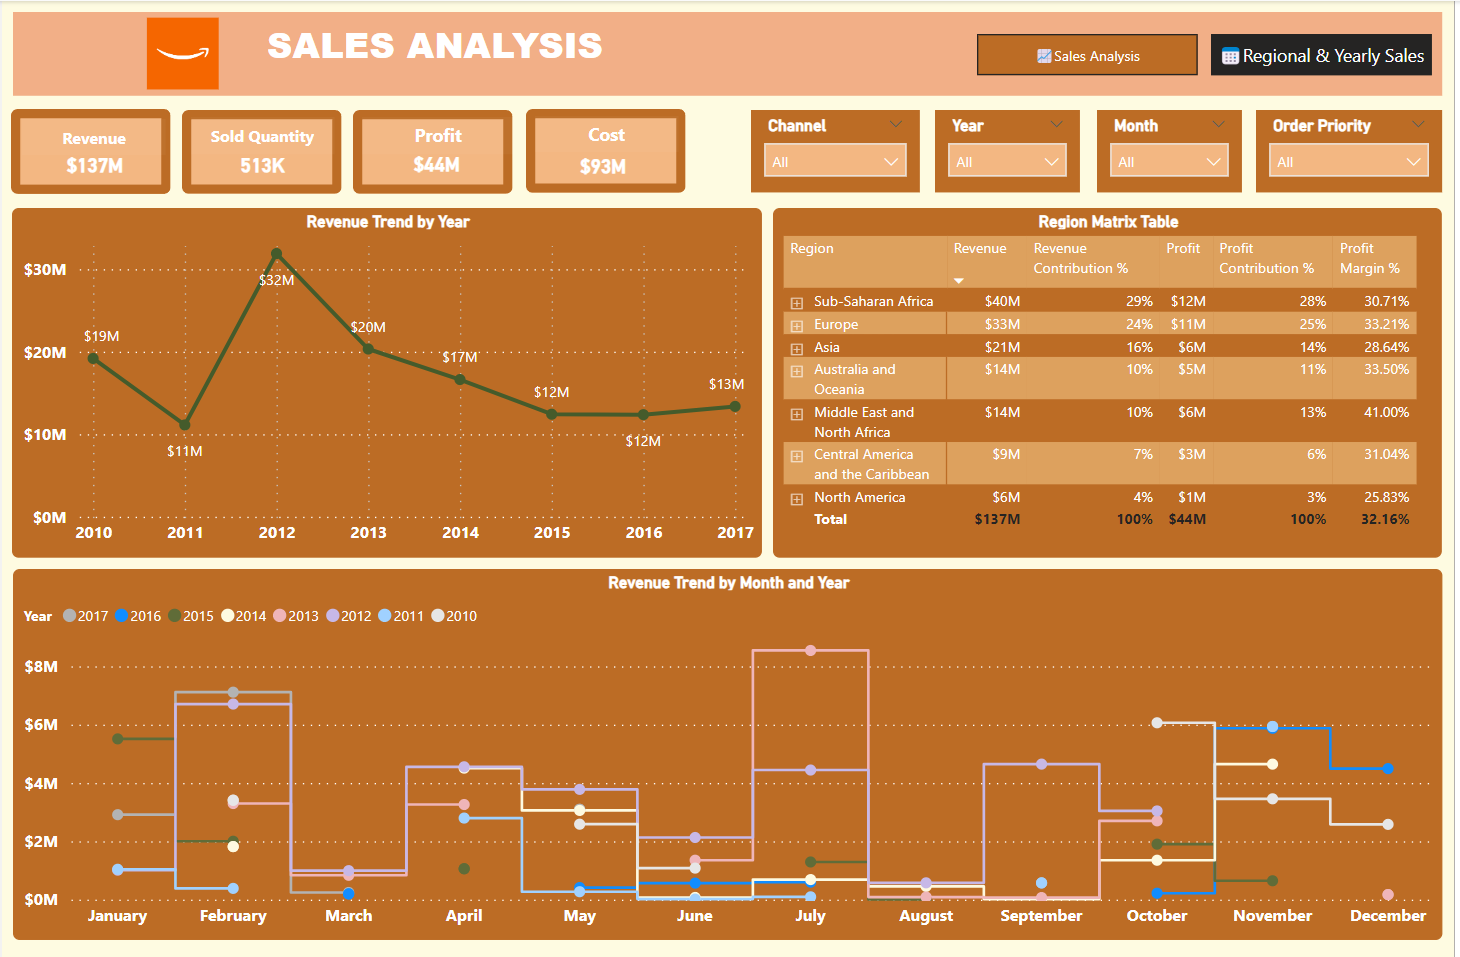

The page's visual inventory and layout, read from the dashboard file:
{"tool":"powerbi","page":{"name":"📈Sales Analysis","canvas":[1092,720],"ordinal":0},"visuals":[{"type":"shape","box":[8.1,8,1074.9,63.1],"z":0,"group":"g5"},{"type":"group","id":"g1","title":"Revenue card","box":[6.9,81.5,120,63.8],"z":0},{"type":"shape","box":[6.9,81.5,120,63.8],"z":0,"group":"g1"},{"type":"shape","box":[393.8,81.5,120,63],"z":0,"group":"g4"},{"type":"shape","box":[134.9,82.1,120,63],"z":0,"group":"g2"},{"type":"shape","box":[263.8,82.3,120,63],"z":0,"group":"g3"},{"type":"textbox","box":[97.6,8.8,376.1,63.8],"z":1000,"group":"g5"},{"type":"group","id":"g2","title":"Sold quantity","box":[134.9,82.1,120,63],"z":1000},{"type":"textbox","box":[15.2,88.8,108.5,26.9],"z":1000,"group":"g1"},{"type":"card","fields":{"Values":["key_measures.Cost"]},"box":[397.6,110.2,108.5,25.4],"z":1000,"group":"g4"},{"type":"card","fields":{"Values":["key_measures.Sold_quantity"]},"box":[141.6,110.6,108.5,25.7],"z":1000,"group":"g2"},{"type":"card","fields":{"Values":["key_measures.Profit"]},"box":[272,110.7,107.8,26.4],"z":1000,"group":"g3"},{"type":"pageNavigator","box":[733.2,24.9,343.1,31.5],"z":2000,"group":"g5"},{"type":"textbox","box":[141.8,87.1,107.7,27.7],"z":2000,"group":"g2"},{"type":"textbox","box":[400.7,87.1,107.7,26.9],"z":2000,"group":"g4"},{"type":"textbox","box":[270.8,87.3,114.6,27.7],"z":2000,"group":"g3"},{"type":"slicer","title":"YearSlicer","fields":{"Values":["Amazon_Sales_data.Year"]},"box":[704.6,88.3,109.2,56.2],"z":2000},{"type":"card","fields":{"Values":["key_measures.Revenue"]},"box":[12.9,111.1,114,26],"z":2000,"group":"g1"},{"type":"image","box":[78.5,7.3,114.4,63.8],"z":3000,"group":"g5"},{"type":"slicer","title":"Month Slicer","fields":{"Values":["Amazon_Sales_data.Month"]},"box":[823.8,88.3,109.2,56.2],"z":3000},{"type":"group","id":"g3","title":"Profit","box":[263.8,82.3,121.6,63],"z":4000},{"type":"group","id":"g4","title":"Cost","box":[393.8,81.5,120,63],"z":5000},{"type":"barChart","title":"Top 5 Country by Revenue","fields":{"Category":["Amazon_Sales_data.Country"],"Y":["Sum(Amazon_Sales_data.Total_Revenue)"]},"box":[849.7,401,233.3,307.8],"z":6000},{"type":"clusteredBarChart","title":"Top 5 Item Type by Revenue","fields":{"Category":["Amazon_Sales_data.Item_Type"],"Y":["Sum(Amazon_Sales_data.Total_Revenue)"]},"box":[775.7,154.7,307.2,237.6],"z":7000},{"type":"stackedAreaChart","title":"Products and Revenue","fields":{"Category":["Amazon_Sales_data.Item_Type"],"Y":["Sum(Amazon_Sales_data.Total_Revenue)"]},"box":[8.1,154.7,760.3,237.6],"z":8000},{"type":"barChart","title":"Revenue by Region and Sales Channel","fields":{"Category":["Amazon_Sales_data.Region"],"Y":["Sum(Amazon_Sales_data.Total_Revenue)"],"Series":["Amazon_Sales_data.Sales_Channel"]},"box":[6.7,401,456.9,307.8],"z":9000},{"type":"donutChart","title":"Revenue by Order Priority","fields":{"Category":["Amazon_Sales_data.Order_Priority"],"Y":["Sum(Amazon_Sales_data.Total_Revenue)"]},"box":[473.3,401,368.2,307.8],"z":10000},{"type":"slicer","title":"YearSlicer","fields":{"Values":["Amazon_Sales_data.Sales_Channel"]},"box":[568.1,88.5,126.7,55.9],"z":11000},{"type":"slicer","title":"Month Slicer","fields":{"Values":["Amazon_Sales_data.Order_Priority"]},"box":[942.9,88,140,56.5],"z":12000},{"type":"group","id":"g5","title":"Title","box":[8.1,7.3,1074.9,65.3],"z":13000}]}

Visuals, with their boxes in screenshot pixels (x1, y1, x2, y2), scaled from the page's 1092x720 canvas onto the 1460x957 screenshot:
shape: x1=11, y1=11, x2=1448, y2=95
"Revenue card" group: x1=9, y1=108, x2=170, y2=193
shape: x1=9, y1=108, x2=170, y2=193
shape: x1=527, y1=108, x2=687, y2=192
shape: x1=180, y1=109, x2=341, y2=193
shape: x1=353, y1=109, x2=513, y2=193
textbox: x1=130, y1=12, x2=633, y2=96
"Sold quantity" group: x1=180, y1=109, x2=341, y2=193
textbox: x1=20, y1=118, x2=165, y2=154
card - key_measures.Cost: x1=532, y1=146, x2=677, y2=180
card - key_measures.Sold_quantity: x1=189, y1=147, x2=334, y2=181
card - key_measures.Profit: x1=364, y1=147, x2=508, y2=182
pageNavigator: x1=980, y1=33, x2=1439, y2=75
textbox: x1=190, y1=116, x2=334, y2=153
textbox: x1=536, y1=116, x2=680, y2=152
textbox: x1=362, y1=116, x2=515, y2=153
"YearSlicer" slicer: x1=942, y1=117, x2=1088, y2=192
card - key_measures.Revenue: x1=17, y1=148, x2=170, y2=182
image: x1=105, y1=10, x2=258, y2=95
"Month Slicer" slicer: x1=1101, y1=117, x2=1247, y2=192
"Profit" group: x1=353, y1=109, x2=515, y2=193
"Cost" group: x1=527, y1=108, x2=687, y2=192
"Top 5 Country by Revenue" barChart: x1=1136, y1=533, x2=1448, y2=942
"Top 5 Item Type by Revenue" clusteredBarChart: x1=1037, y1=206, x2=1448, y2=521
"Products and Revenue" stackedAreaChart: x1=11, y1=206, x2=1027, y2=521
"Revenue by Region and Sales Channel" barChart: x1=9, y1=533, x2=620, y2=942
"Revenue by Order Priority" donutChart: x1=633, y1=533, x2=1125, y2=942
"YearSlicer" slicer: x1=760, y1=118, x2=929, y2=192
"Month Slicer" slicer: x1=1261, y1=117, x2=1448, y2=192
"Title" group: x1=11, y1=10, x2=1448, y2=96
